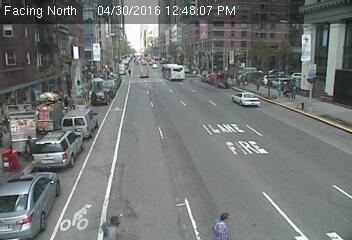neg: (101, 134, 121, 161), (127, 91, 145, 115), (179, 92, 197, 115), (231, 110, 245, 129), (264, 30, 277, 48), (147, 142, 160, 160), (169, 61, 178, 73), (125, 66, 134, 78), (212, 40, 220, 51)
pos: (99, 207, 123, 239), (208, 205, 231, 237), (75, 77, 83, 88)
